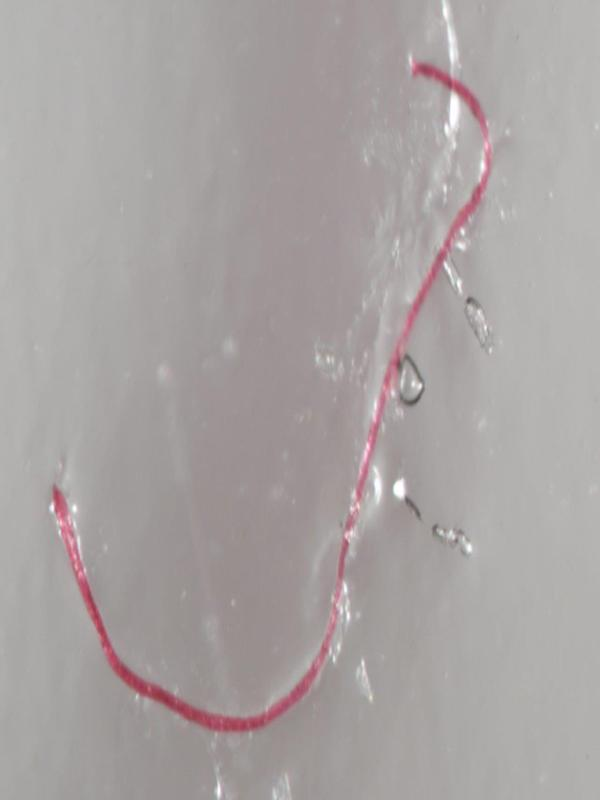microplastic: (49, 45, 496, 738)
